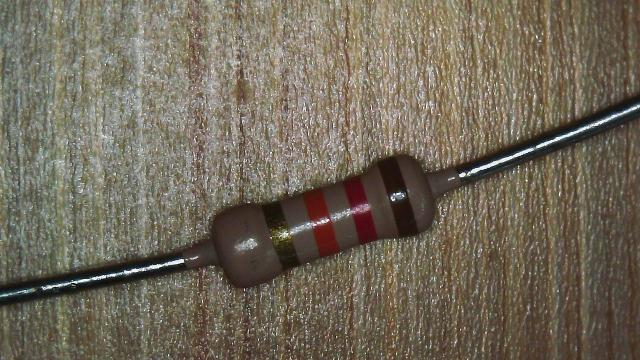brown: (380, 155, 412, 238)
gold: (264, 200, 294, 270)
orange: (306, 188, 334, 258)
red: (347, 174, 372, 247)
resistor: (186, 122, 485, 311)
